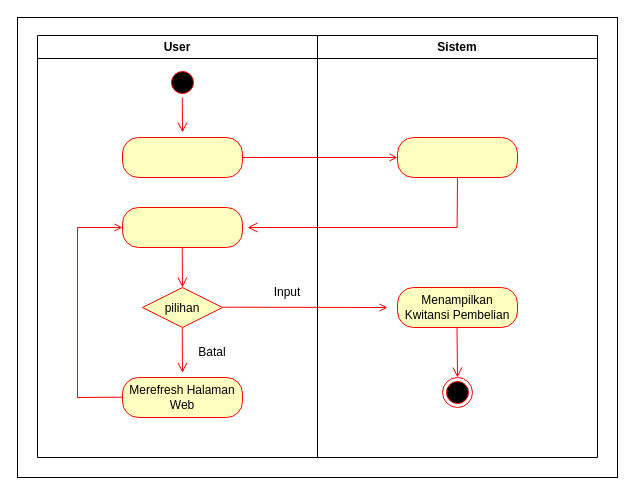
Image size: 635x495. Some labels were removed from this diagram. Each missing label, with the centre of its shape:
Menampilkan Form: point (457, 157)
Mengakses Sistem: point (182, 157)
Mengisi Form: point (182, 227)
